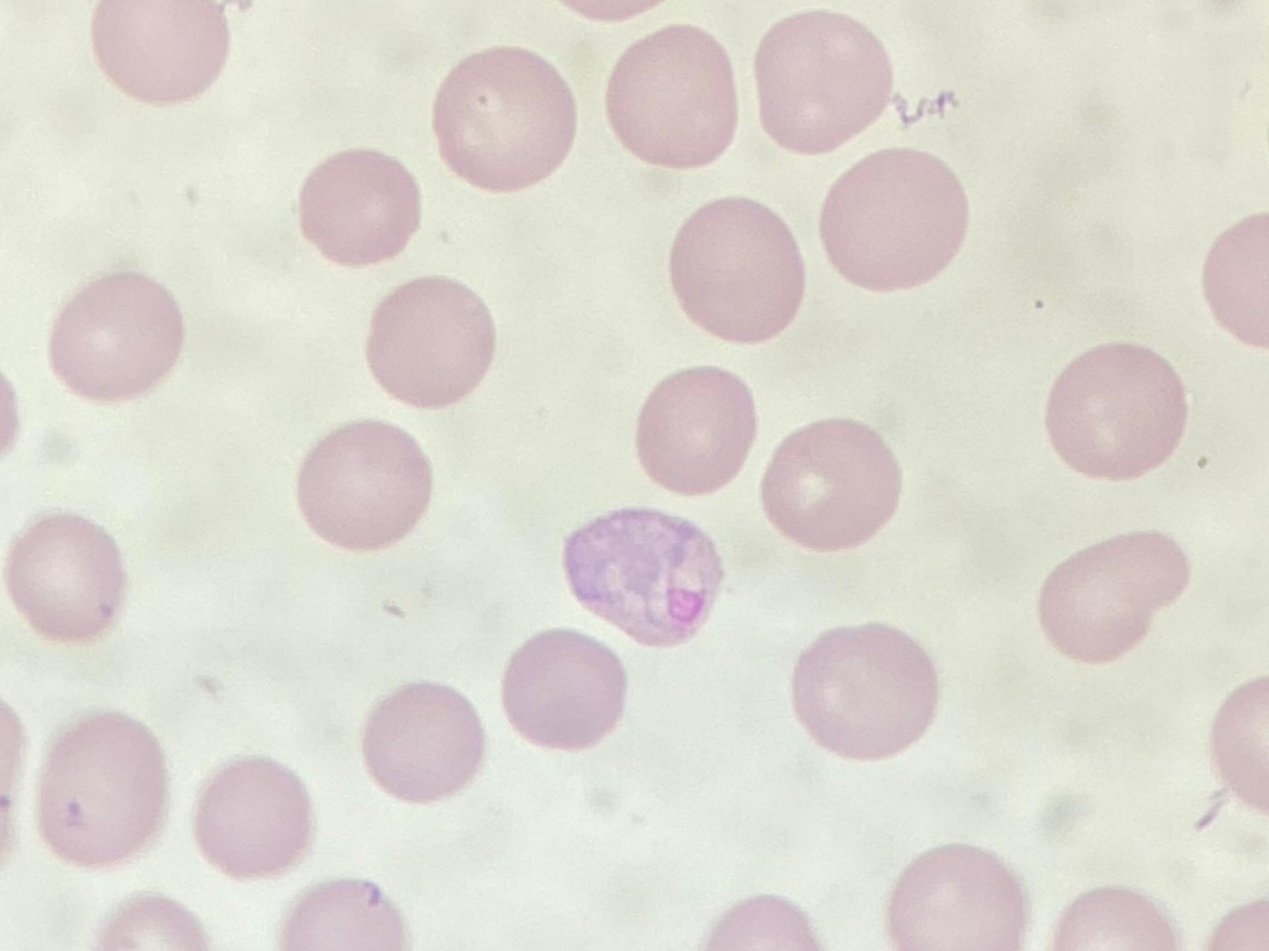Infected: (567, 506, 725, 651)
Uninfected: (36, 712, 173, 869), (788, 623, 940, 760), (435, 48, 580, 190), (823, 157, 972, 294), (671, 197, 807, 345), (755, 12, 895, 153), (1048, 342, 1190, 481), (758, 417, 901, 554), (1043, 533, 1189, 664), (608, 25, 738, 171), (51, 268, 187, 399), (367, 276, 499, 409), (297, 422, 432, 550), (638, 366, 761, 500), (3, 513, 128, 640), (887, 843, 1032, 951), (362, 679, 487, 801), (89, 0, 231, 107), (197, 754, 314, 881), (506, 630, 631, 748), (301, 150, 420, 266)
